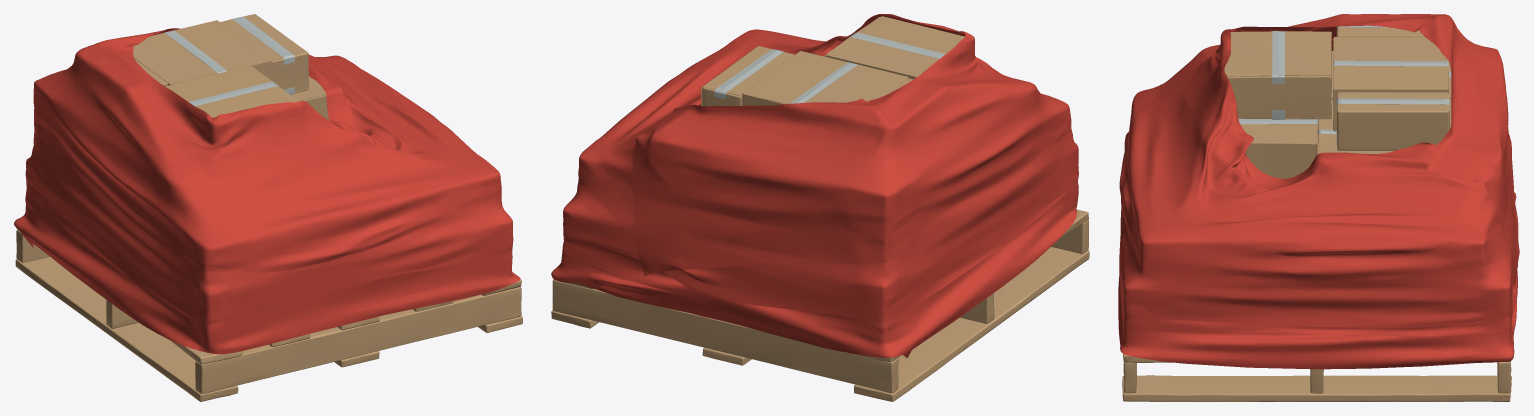
The model's file is pallet_assembly_red_a03.glb.
3 renders of one model, left to right at view 1: azimuth 30°, elevation 25°; view 2: azimuth 150°, elevation 25°; view 3: azimuth 270°, elevation 25°, orthographic. The views are drawn at different scales.
Size of the model in its own units: 0.9116 by 0.6356 by 0.9282.
